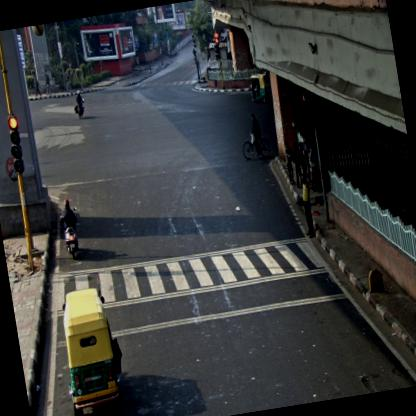motorcycle: (57, 197, 83, 262)
